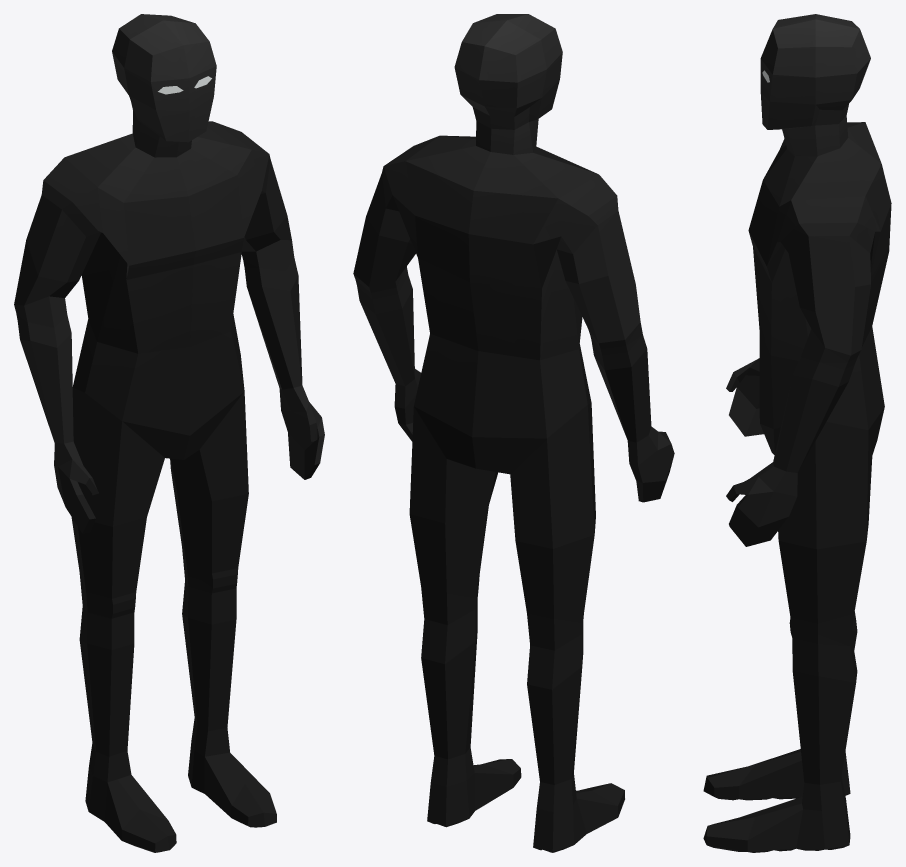
File: Entity.fbx
The picture shows the model from 3 angles, left to right: view 1: azimuth 30°, elevation 25°; view 2: azimuth 150°, elevation 25°; view 3: azimuth 270°, elevation 25°; orthographic projection. The views are drawn at different scales.
Parts seen in each view (by area): view 1: Cube.004; view 2: Cube.004; view 3: Cube.004.
Part boxes in pixels (x1,y1,x2,y2): Cube.004: (14, 14, 324, 852); Cube.004: (353, 14, 674, 852); Cube.004: (703, 14, 891, 852).
Bounding box in the file's own units: 64.61 × 180 × 38.37.
